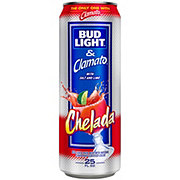beer can: (58, 2, 123, 177)
